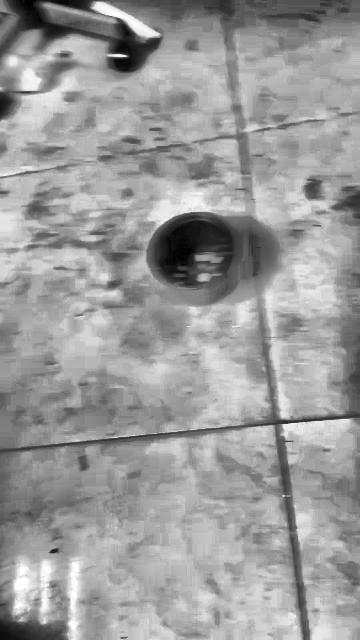pot: (147, 213, 243, 305)
